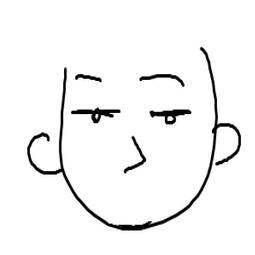ear: (18, 125, 67, 183), (214, 112, 244, 171)
eyebrow: (128, 67, 188, 91), (73, 67, 107, 88)
pointy_nose: (122, 127, 151, 182)
small_eye: (67, 103, 122, 127), (151, 107, 195, 130)
